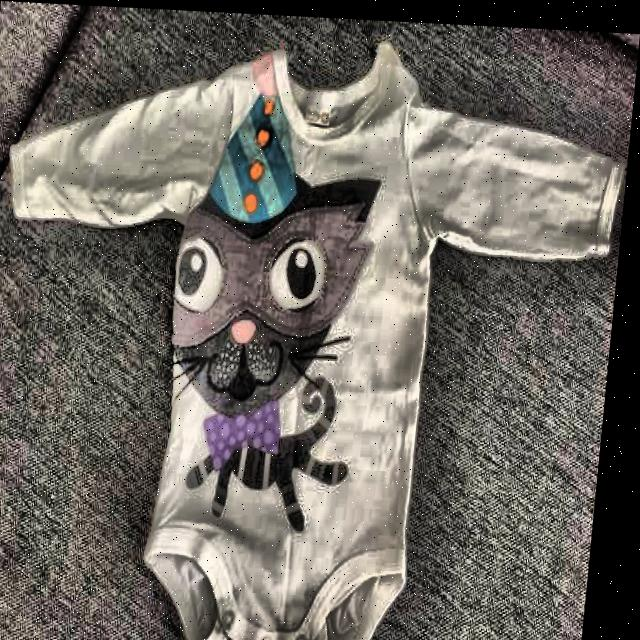clothes: (0, 21, 632, 640)
